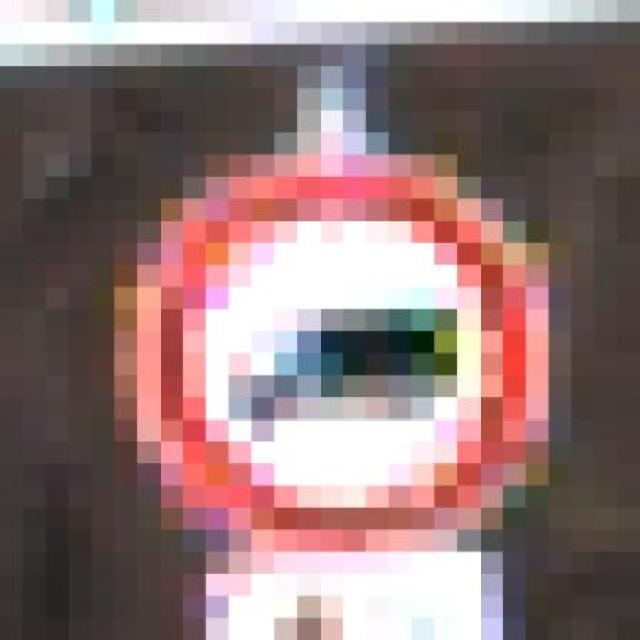Truck traffic is prohibited: (89, 110, 569, 572)
